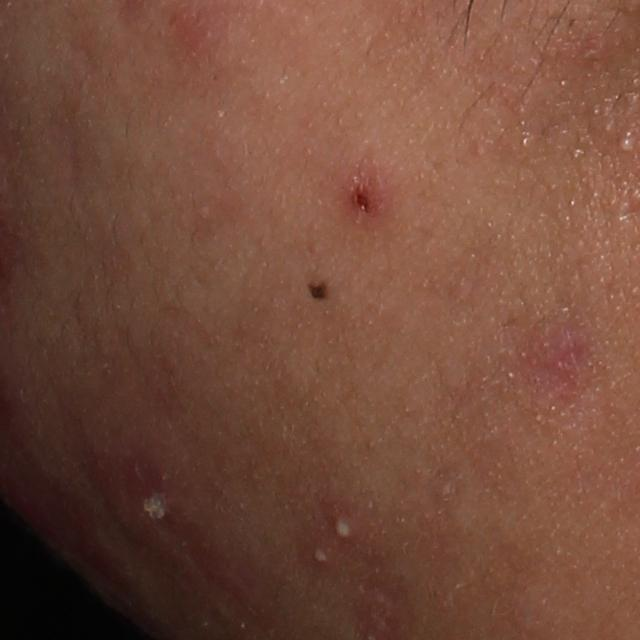nevus: (305, 275, 332, 306)
papule: (343, 162, 387, 219)
pustule: (135, 479, 198, 538), (331, 515, 357, 544), (616, 131, 636, 156), (310, 545, 330, 568)
